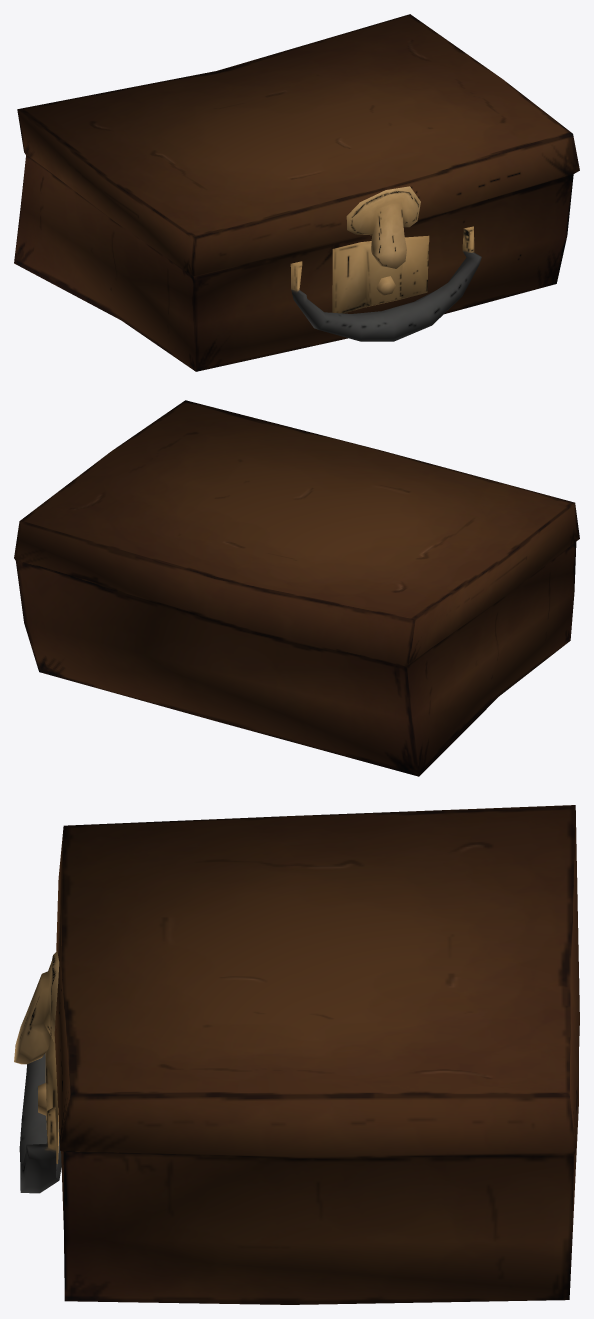
Rendered from Luggage.fbx.
3 views of the same model, one above another, from view 1: azimuth 30°, elevation 25°; view 2: azimuth 150°, elevation 25°; view 3: azimuth 270°, elevation 25° (orthographic). The views are drawn at different scales.
Visible parts, largest first — view 1: Luggage; view 2: Luggage; view 3: Luggage.
Part boxes in pixels (left/top/right/bottom): Luggage: left=14, top=14, right=579, bottom=371; Luggage: left=14, top=400, right=579, bottom=776; Luggage: left=14, top=805, right=579, bottom=1304.
Size of the model in its own units: 78.28 by 28.79 by 62.25.
1 material, 1 textured.
